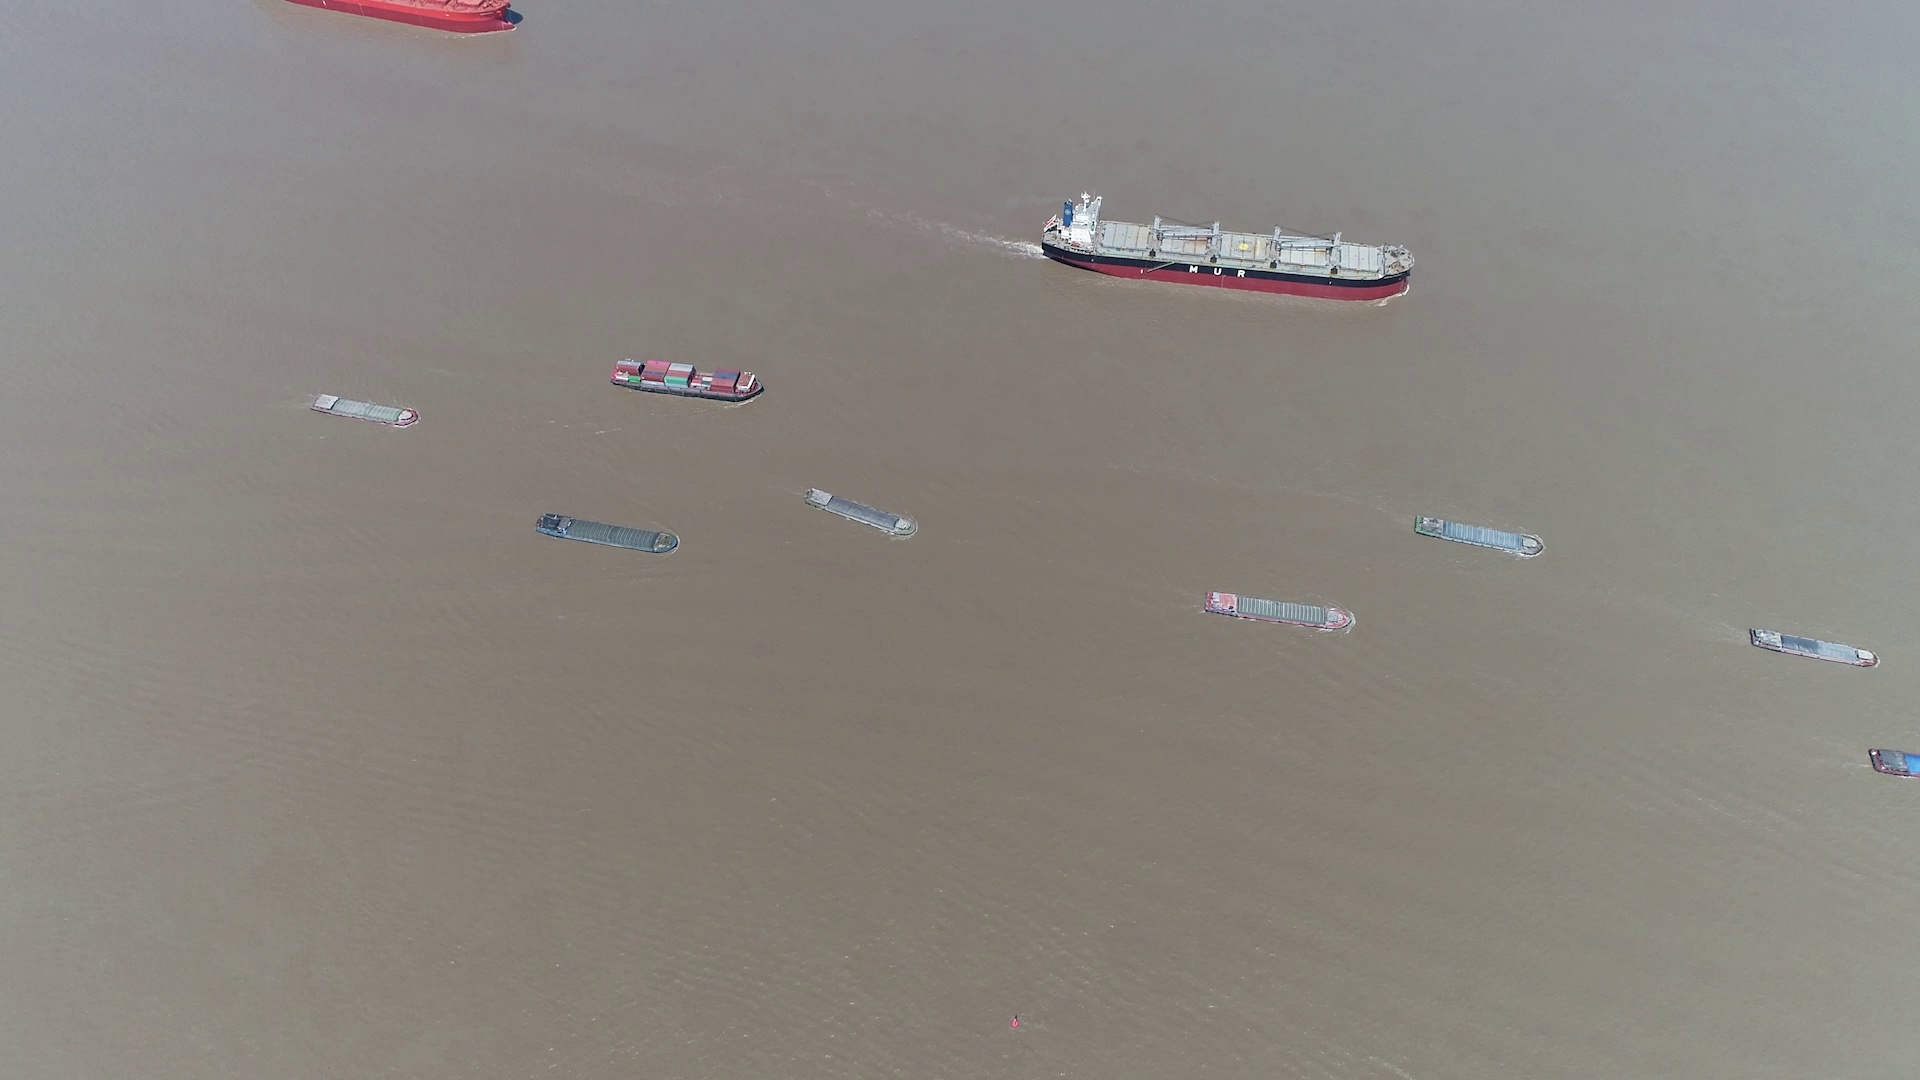ship: (1044, 195, 1414, 301), (274, 0, 520, 40), (608, 357, 764, 402), (1203, 589, 1357, 633), (804, 488, 918, 541), (537, 513, 679, 554), (1410, 514, 1545, 556), (1746, 626, 1879, 669), (310, 393, 418, 427), (1869, 746, 1917, 779)
